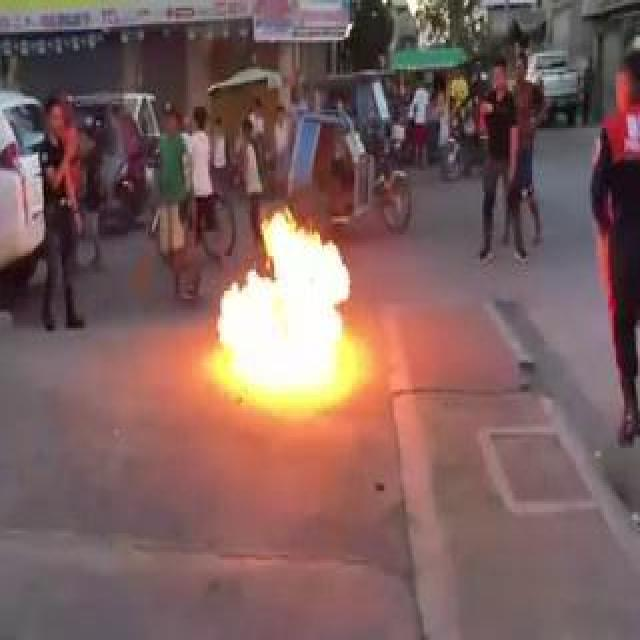Smoke: (248, 208, 322, 405)
